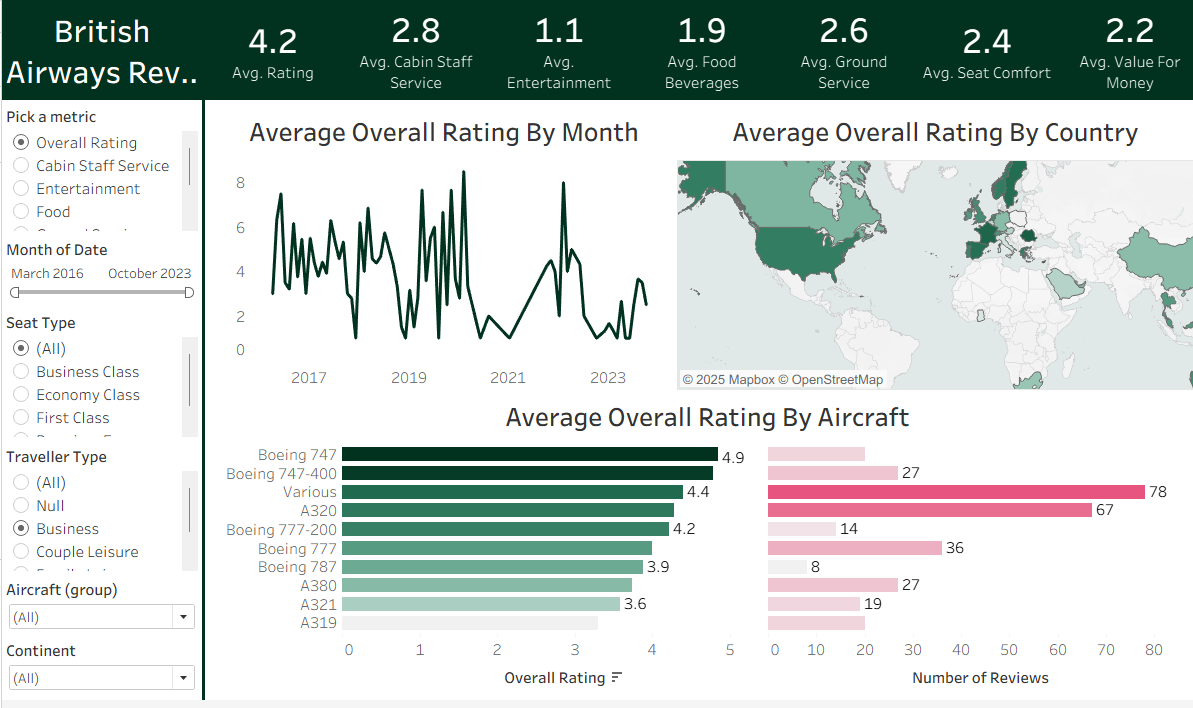

The dashboard page shown, as its layout file describes it:
{"tool":"tableau","page":{"name":"Dashboard 1","canvas":[1200,700],"ordinal":0},"visuals":[{"type":"text","box":[0,0,200,100]},{"type":"worksheet","title":"summary","mark":"Automatic","box":[200,0,999,100]},{"type":"blank","box":[200,100,3,600]},{"type":"parameter","param":"[Parameters].[Parameter 1]","box":[0,102,200,133.3]},{"type":"worksheet","title":"Month","mark":"Automatic","rows":["Calculation_467529988195790848"],"cols":["date"],"box":[220,110,444,280]},{"type":"worksheet","title":"Map","mark":"Automatic","box":[675,110,517,280]},{"type":"filter","title":"Map","param":"[federated.1pcnwoo1g4pvph10ksfk00hadk1e].[tmn:date:qk]","box":[0,235.3,200,73]},{"type":"filter","title":"Map","param":"[federated.1pcnwoo1g4pvph10ksfk00hadk1e].[none:seat_type:nk]","box":[0,308.3,200,133.3]},{"type":"worksheet","title":"Aircraft","mark":"Automatic","cols":["Calculation_467529988195790848","ba_reviews.csv_693B5AD7C0CC43C9AB5E245D8FB67E5F"],"box":[220,395,971,300]},{"type":"filter","title":"Map","param":"[federated.1pcnwoo1g4pvph10ksfk00hadk1e].[none:traveller_type:nk]","box":[0,441.7,200,133.3]},{"type":"filter","title":"Map","param":"[federated.1pcnwoo1g4pvph10ksfk00hadk1e].[Aircraft (group)]","box":[0,575,200,61]},{"type":"filter","title":"Map","param":"[federated.1pcnwoo1g4pvph10ksfk00hadk1e].[none:Continent:nk]","box":[0,636,200,61]}]}

Visuals, with their boxes in screenshot pixels (x1, y1, x2, y2), scaled from the page's 1200x700 canvas onto the 1193x708 screenshot:
text: BBox(0, 0, 199, 101)
"summary" worksheet: BBox(199, 0, 1192, 101)
blank: BBox(199, 101, 202, 707)
parameter: BBox(0, 103, 199, 238)
"Month" worksheet: BBox(219, 111, 660, 394)
"Map" worksheet: BBox(671, 111, 1185, 394)
"Map" filter: BBox(0, 238, 199, 312)
"Map" filter: BBox(0, 312, 199, 447)
"Aircraft" worksheet: BBox(219, 400, 1184, 703)
"Map" filter: BBox(0, 447, 199, 582)
"Map" filter: BBox(0, 582, 199, 643)
"Map" filter: BBox(0, 643, 199, 705)
